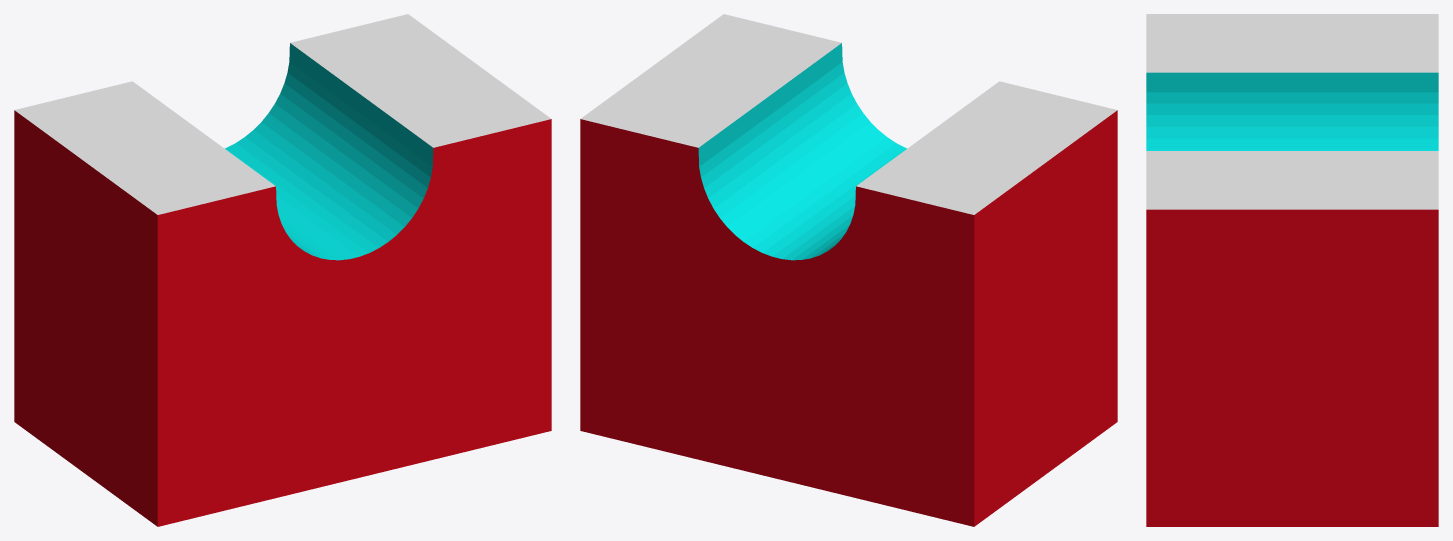
The model's file is test_level.glb.
3 renders of one model, left to right at view 1: azimuth 30°, elevation 25°; view 2: azimuth 150°, elevation 25°; view 3: azimuth 270°, elevation 25°, orthographic.
Visible parts, largest first — view 1: test_level-col; view 2: test_level-col; view 3: test_level-col.
Boxes of the visible parts, left/top/right/bottom form: test_level-col: left=14, top=14, right=551, bottom=526; test_level-col: left=580, top=14, right=1117, bottom=526; test_level-col: left=1146, top=14, right=1438, bottom=526.
Bounding box in the file's own units: 95.09 × 71.94 × 60.
